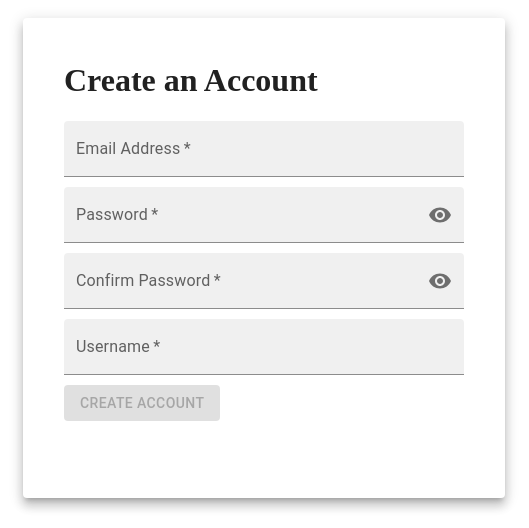
Test case: In account creation, › the submit button is disabled until all required fields have truthy values
Check: the button with test id "submit-button" is disabled, box [64,385,220,421]
In the field labelled "Email Address *": (264, 149) [64,121,464,177], type "test@example.com"
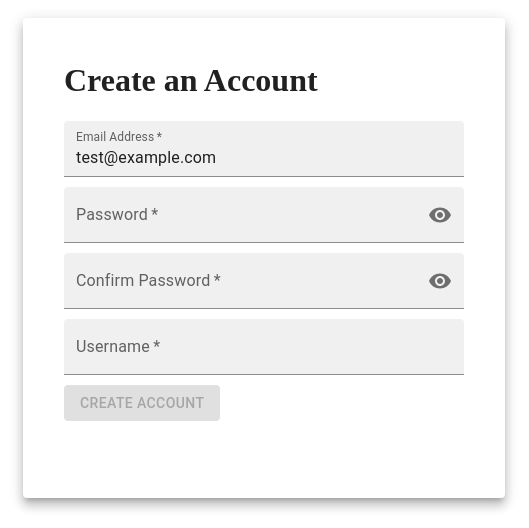
In the password field labelled "Password *": (242, 215) [64,187,420,243], type "test123"
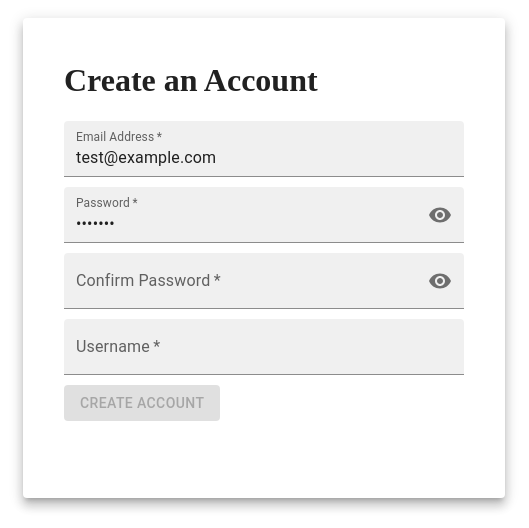
In the password field labelled "Confirm Password *": (242, 281) [64,253,420,309], type "test123"
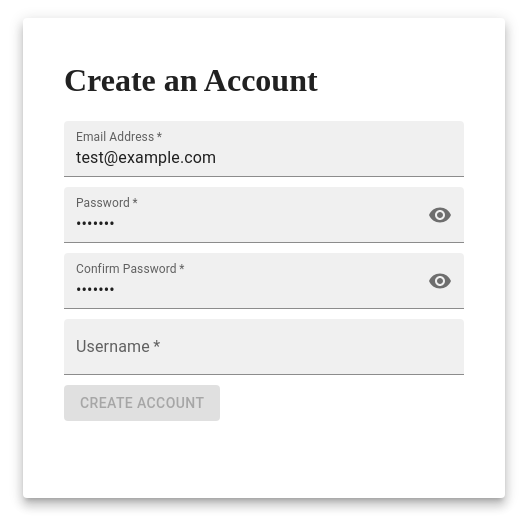
In the field labelled "Username *": (264, 347) [64,319,464,375], type "testUser"
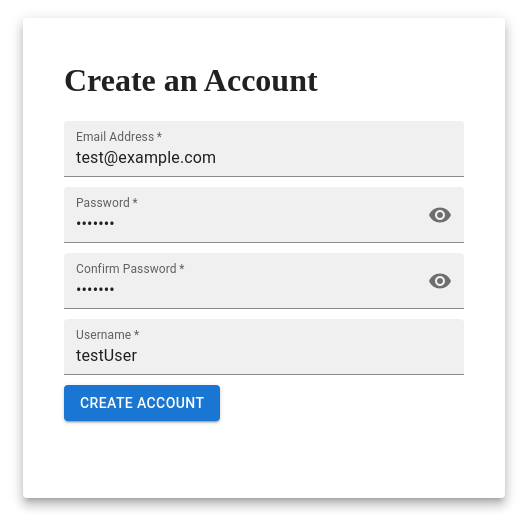
Check: the button with test id "submit-button" is enabled, box [64,385,220,421]
